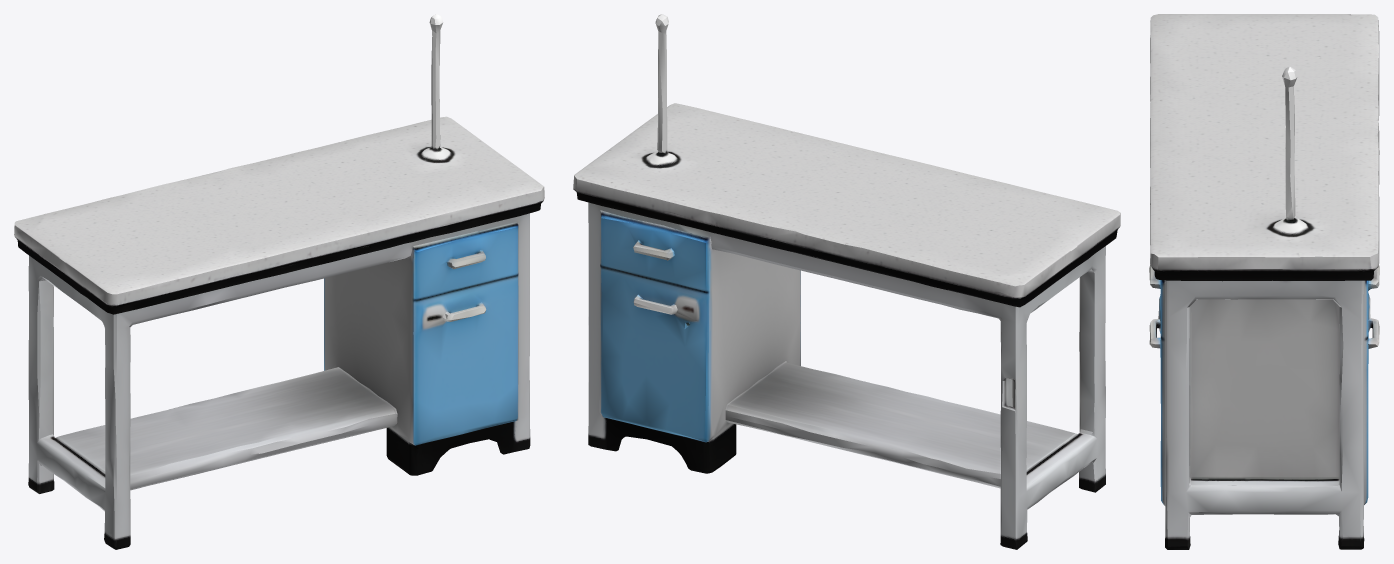
Rendered from LabBench.glb.
The picture shows the model from 3 angles, left to right: view 1: azimuth 30°, elevation 25°; view 2: azimuth 150°, elevation 25°; view 3: azimuth 270°, elevation 25°; orthographic projection. The views are drawn at different scales.
Parts seen in each view (by area): view 1: geometry_0; view 2: geometry_0; view 3: geometry_0.
Part boxes in pixels (left/top/right/bottom): geometry_0: left=14, top=14, right=544, bottom=549; geometry_0: left=573, top=14, right=1120, bottom=549; geometry_0: left=1149, top=14, right=1379, bottom=549.
Bounding box in the file's own units: 1.5 × 1.33 × 0.6.
Materials: 1 (1 with a texture image).
